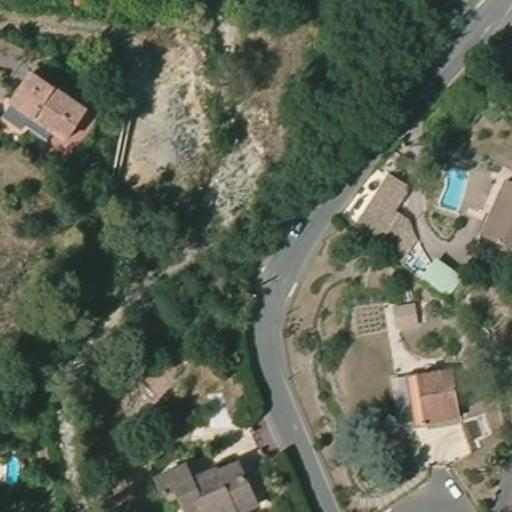pool: (436, 160, 472, 213), (1, 453, 24, 483)
